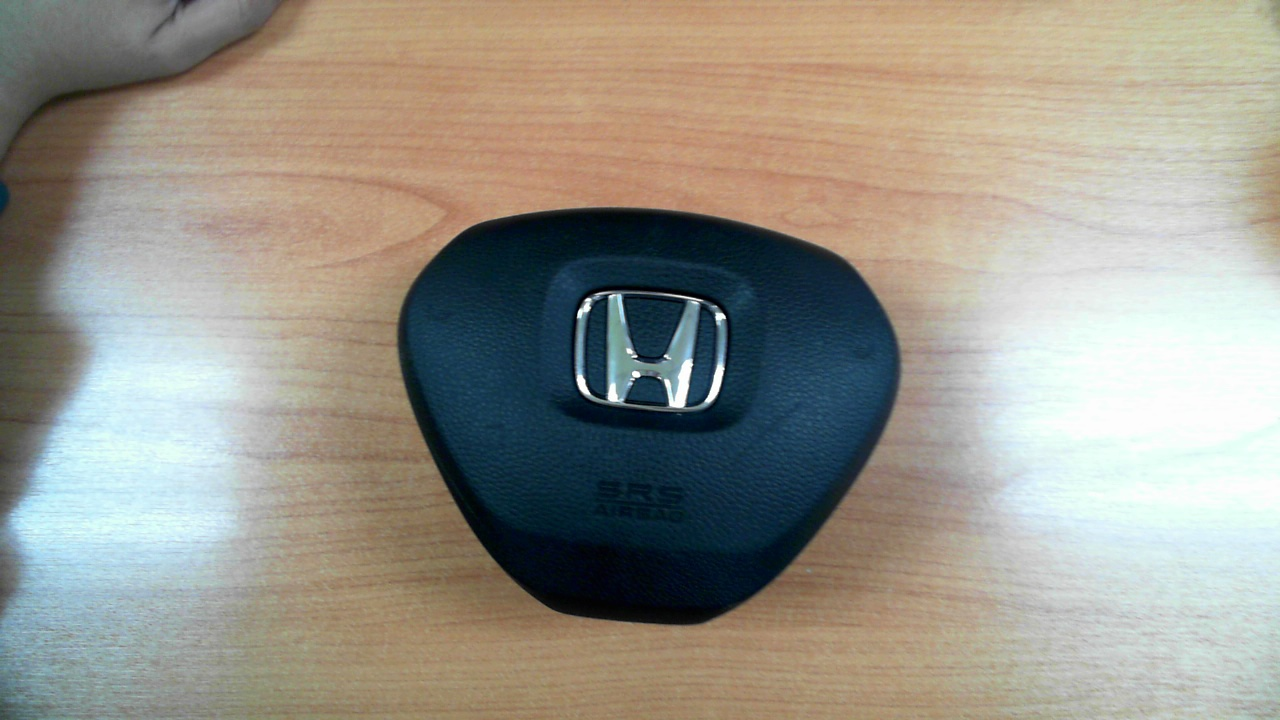Airbag: (396, 208, 901, 626)
Honda: (573, 289, 729, 413)
